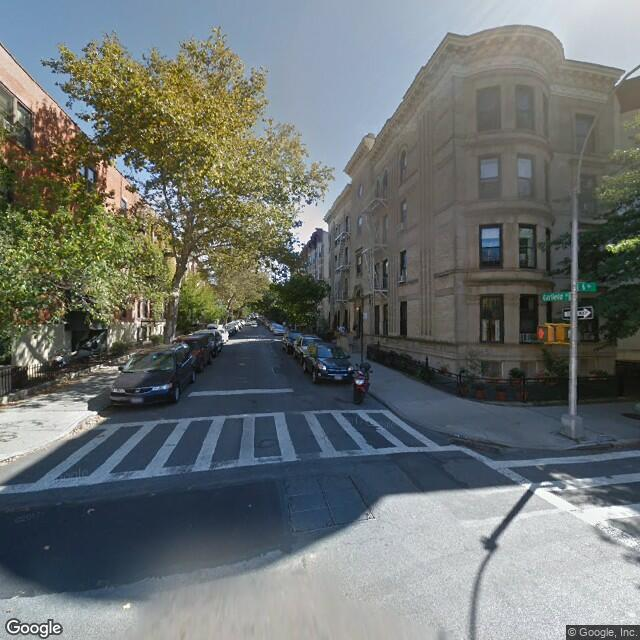litter: (119, 602, 132, 609)
